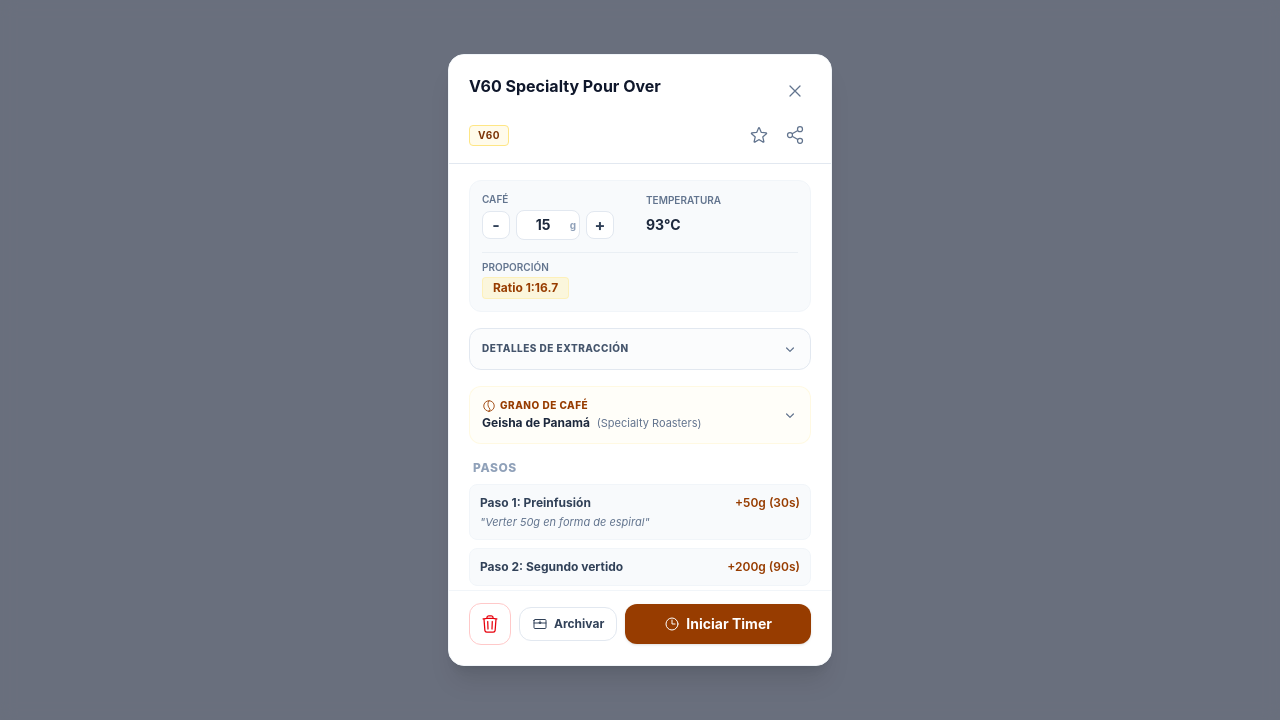
Test: RecipeSummaryModal Component Tests › renders basic recipe information and toggles details accordion
The width and height of the screenshot is (1280, 720).
Check: the heading "V60 Specialty Pour Over" is shown, box 469,76 -> 661,96
Check: the text "93°C" is shown, box 646,216 -> 681,233
# Open details accordion
Click the button "Detalles de Extracción" at (555, 348), box 470,329 -> 810,369
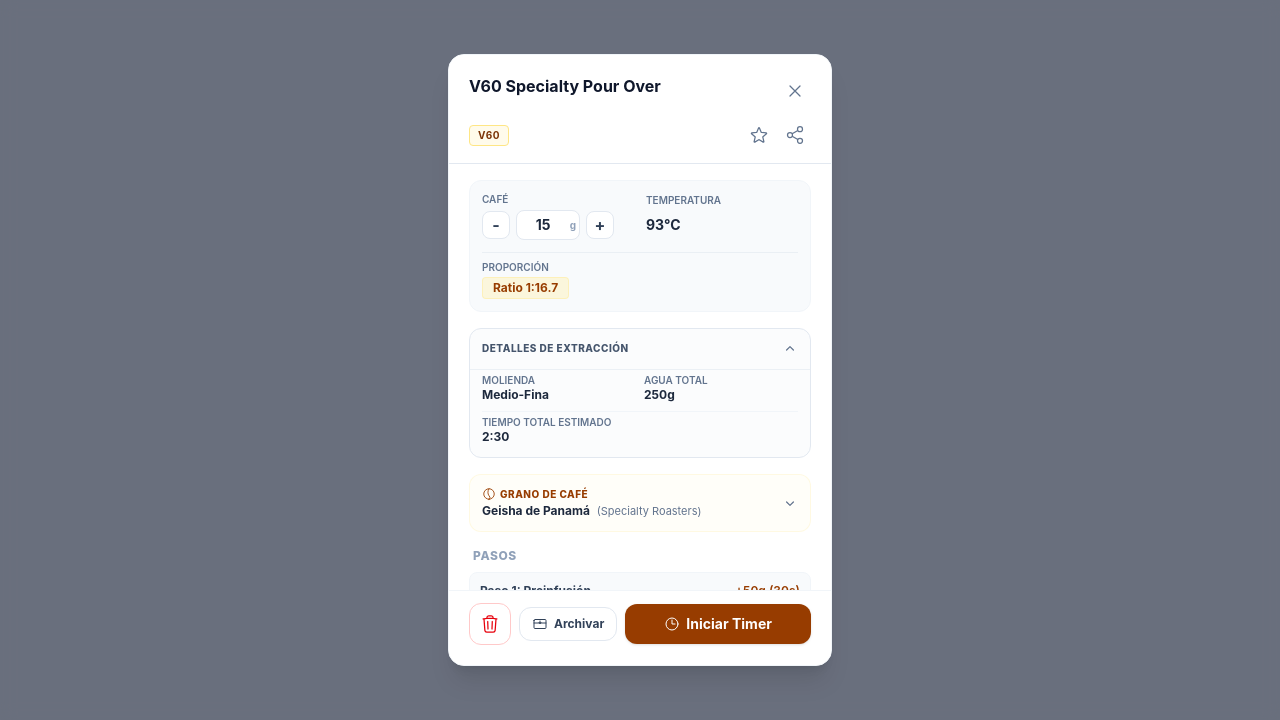
Check: the text "Medio-Fina" is shown, box 482,387 -> 549,402
Check: the text "2:30" is shown, box 482,429 -> 509,444
Check: the text "250g" is shown, box 644,387 -> 675,402
